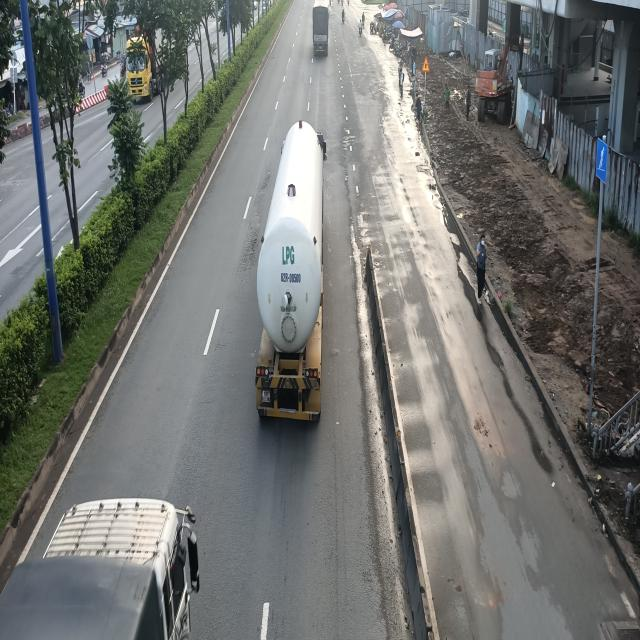truck: (255, 115, 326, 422), (312, 0, 329, 58)
